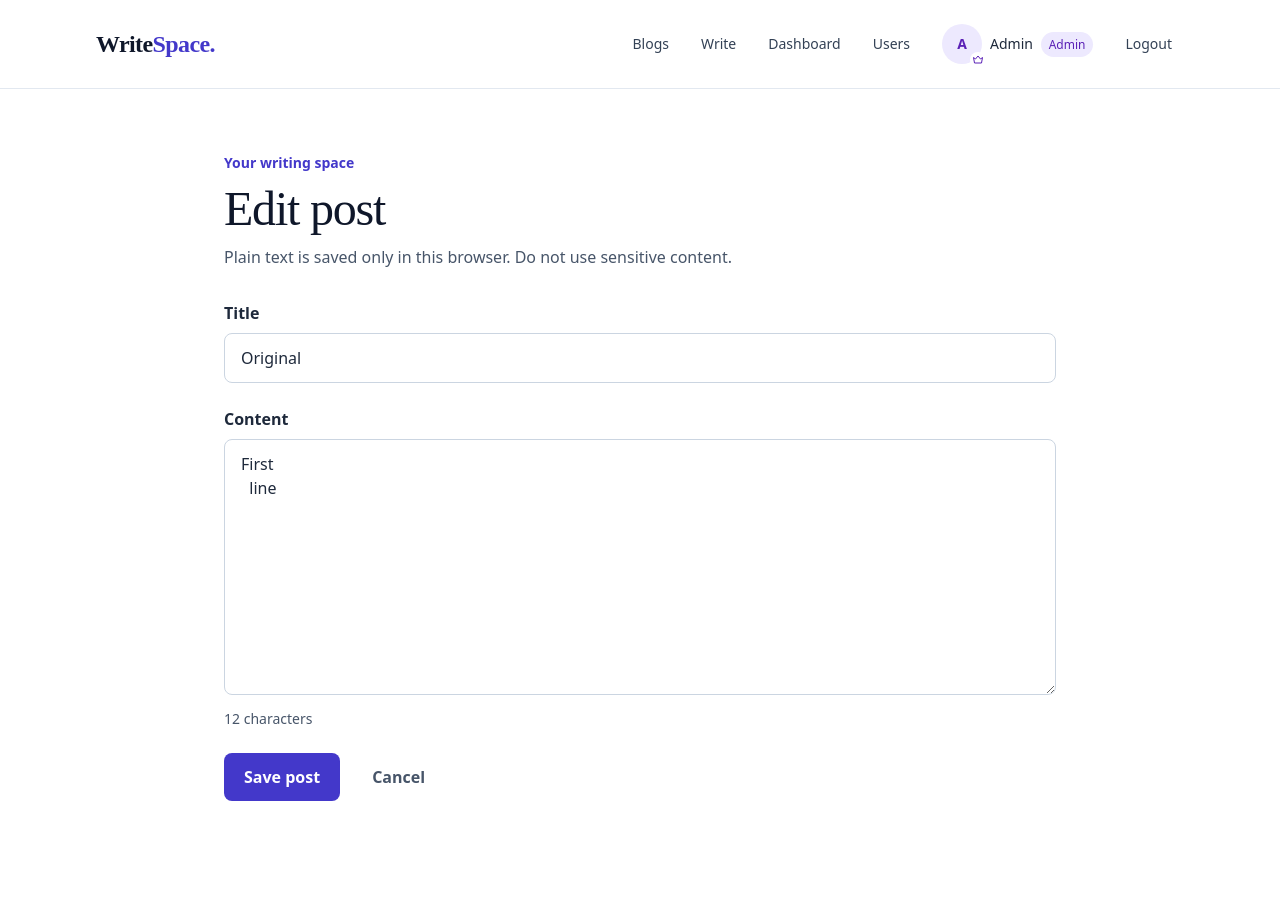
Test: post authoring › prefills and edits as admin, retaining identity, metadata, and other fresh records
The image size is (1280, 900).
Replace the text in the field labelled "Title" with "Revised" at (640, 358), box [224,333,1056,383]
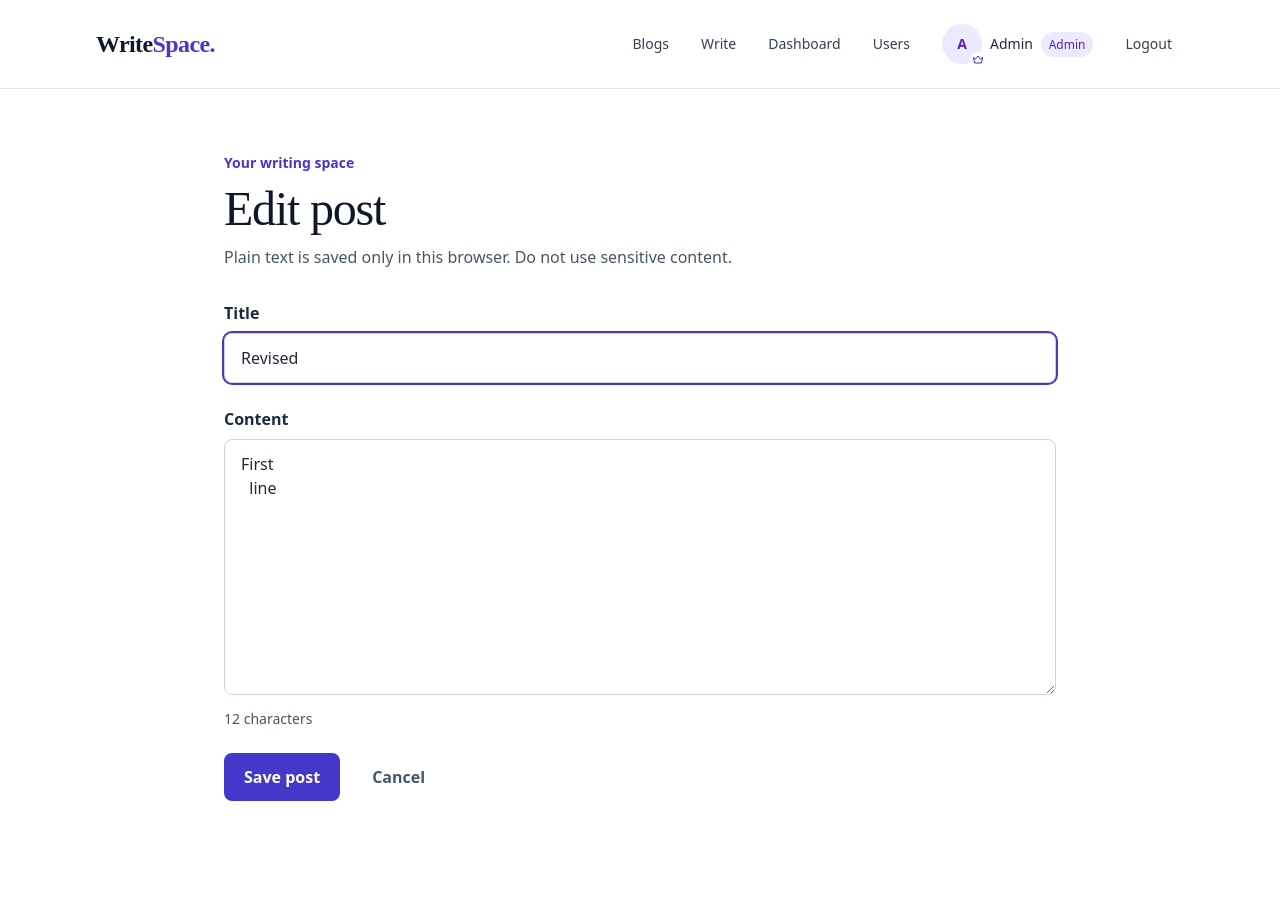
Click the button "Save post" at (282, 777), box [224,753,340,801]
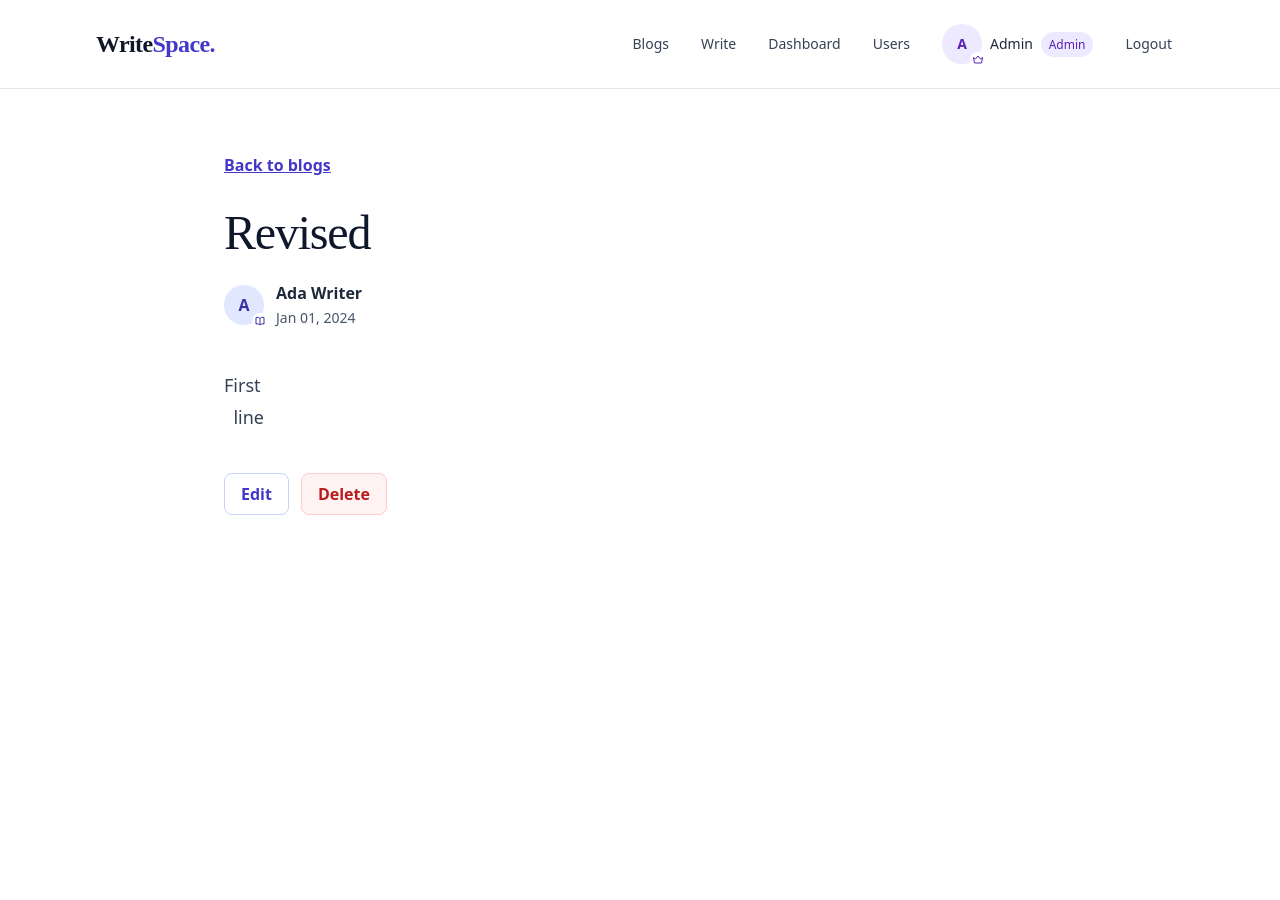
Check: the heading "Revised" is shown, box [224,206,370,259]
